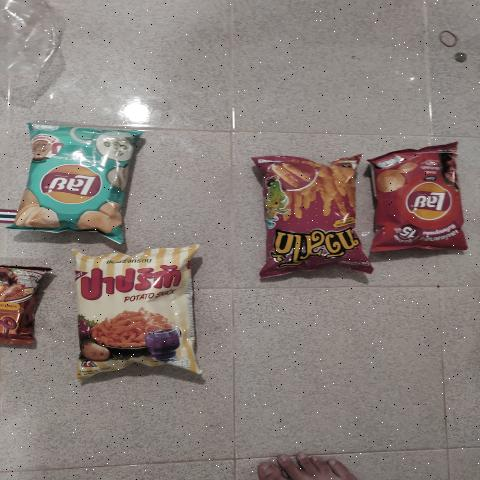lay_blue: (23, 125, 129, 232)
paprika: (88, 262, 198, 369)
twisco: (266, 162, 351, 262)
